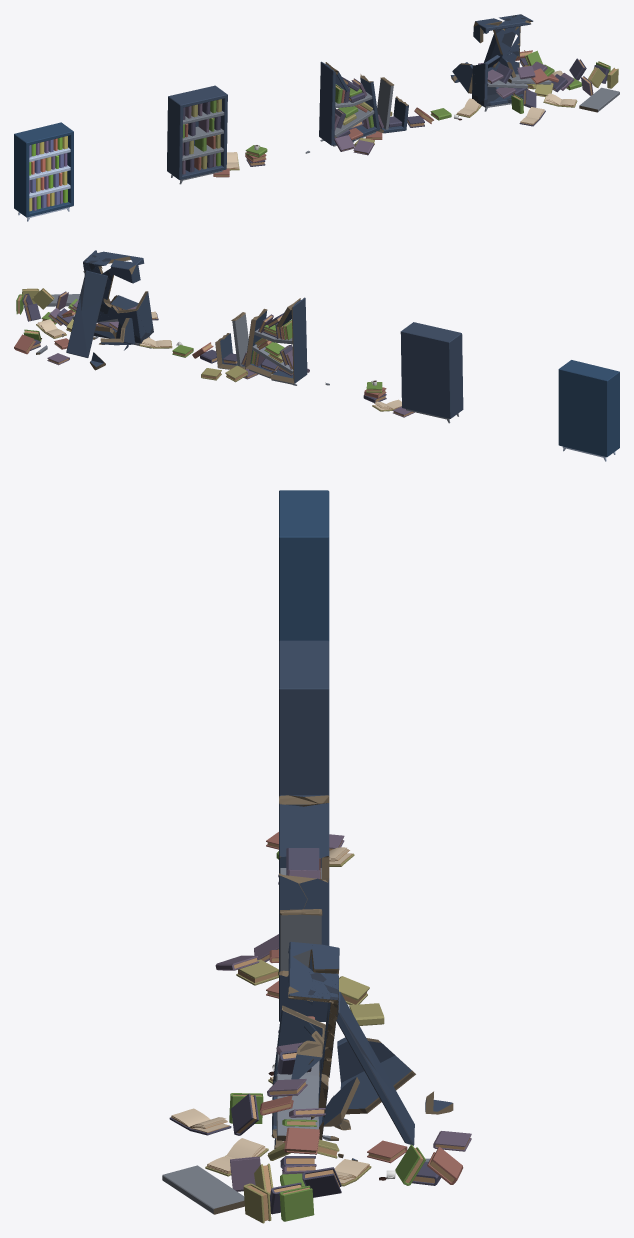
File: Книжный шкаф.fbx
3 renders of one model, top to bottom at view 1: azimuth 30°, elevation 25°; view 2: azimuth 150°, elevation 25°; view 3: azimuth 270°, elevation 25°, orthographic. The views are drawn at different scales.
Visible parts, largest first — view 1: Стены.001, Стены, Стены.007, Стены.009, Полки.001, Полки, Полки.004, Стены.002_cell.005, Стены.002_cell.012, Стены.002, Полки.008, Стены.002_cell.001 (+2 smaller); view 2: Стены.001, Стены, Стены.003, Стены.007, Стены.009, Стены.002_cell.005, Стены.002_cell.001, Стены.002_cell.012, Стены.002, Книга .054; view 3: Стены.001, Стены, Стены.009, Стены.003, Стены.002_cell.012, Стены.010, Полки.004, Стены.002, Полки.006, Стены.002_cell.005, Книга .082, Стены.002_cell.022.
Boxes of the visible parts, x1=… form: Стены.001: x1=167, y1=85, x2=227, y2=179; Стены: x1=14, y1=122, x2=73, y2=217; Стены.007: x1=319, y1=61, x2=335, y2=145; Стены.009: x1=377, y1=77, x2=408, y2=133; Полки.001: x1=182, y1=111, x2=224, y2=160; Полки: x1=29, y1=147, x2=70, y2=198; Полки.004: x1=579, y1=87, x2=619, y2=112; Стены.002_cell.005: x1=473, y1=63, x2=494, y2=101; Стены.002_cell.012: x1=452, y1=62, x2=472, y2=93; Стены.002: x1=360, y1=74, x2=379, y2=129; Полки.008: x1=334, y1=108, x2=374, y2=136; Стены.002_cell.001: x1=473, y1=18, x2=502, y2=43; Стены.001: x1=400, y1=322, x2=463, y2=418; Стены: x1=558, y1=360, x2=619, y2=457; Стены.003: x1=66, y1=270, x2=107, y2=357; Стены.007: x1=291, y1=297, x2=307, y2=383; Стены.009: x1=215, y1=312, x2=248, y2=369; Стены.002_cell.005: x1=117, y1=291, x2=152, y2=333; Стены.002_cell.001: x1=110, y1=260, x2=140, y2=283; Стены.002_cell.012: x1=100, y1=318, x2=134, y2=345; Стены.002: x1=245, y1=308, x2=267, y2=367; Книга .054: x1=36, y1=319, x2=66, y2=338; Стены.001: x1=279, y1=640, x2=329, y2=795; Стены: x1=279, y1=490, x2=329, y2=640; Стены.009: x1=279, y1=909, x2=327, y2=1021; Стены.003: x1=336, y1=991, x2=414, y2=1145; Стены.002_cell.012: x1=337, y1=1037, x2=415, y2=1114; Стены.010: x1=279, y1=803, x2=329, y2=858; Полки.004: x1=162, y1=1165, x2=244, y2=1214; Стены.002: x1=279, y1=873, x2=329, y2=971; Полки.006: x1=276, y1=1074, x2=318, y2=1140; Стены.002_cell.005: x1=274, y1=1005, x2=325, y2=1076; Книга .082: x1=279, y1=1185, x2=314, y2=1221; Стены.002_cell.022: x1=291, y1=1023, x2=324, y2=1079.
Size of the model in its own units: 5778 by 771 by 1316.
